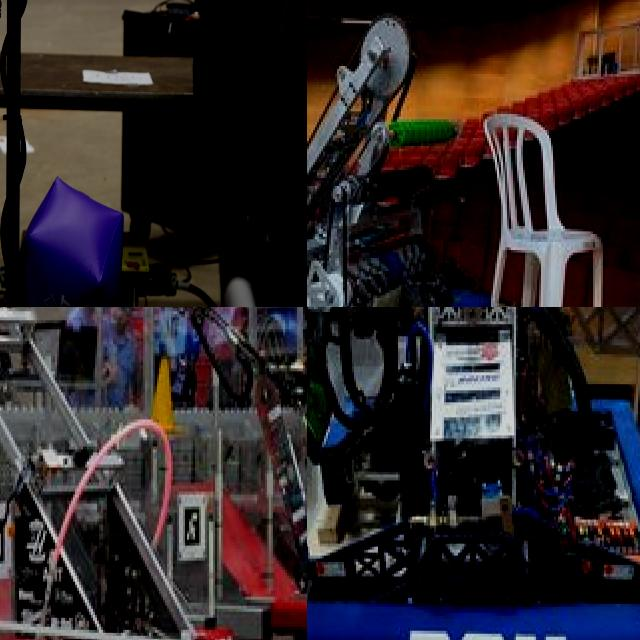FRC-Robots: (307, 307, 640, 640), (0, 307, 258, 640), (0, 0, 231, 307), (307, 0, 504, 307)
